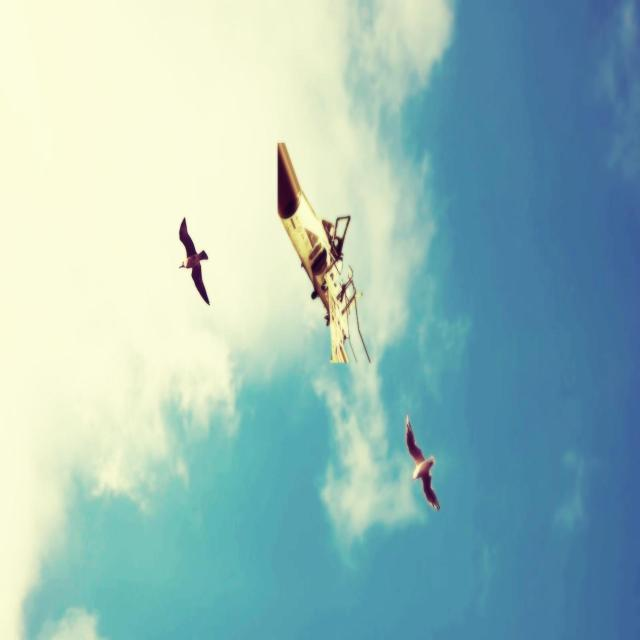airplane: (276, 140, 371, 364)
